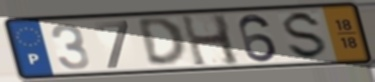3: (50, 22, 92, 71)
6: (236, 12, 279, 64)
7: (92, 19, 132, 70)
D: (135, 16, 189, 68)
H: (178, 13, 244, 69)
S: (282, 9, 331, 62)
